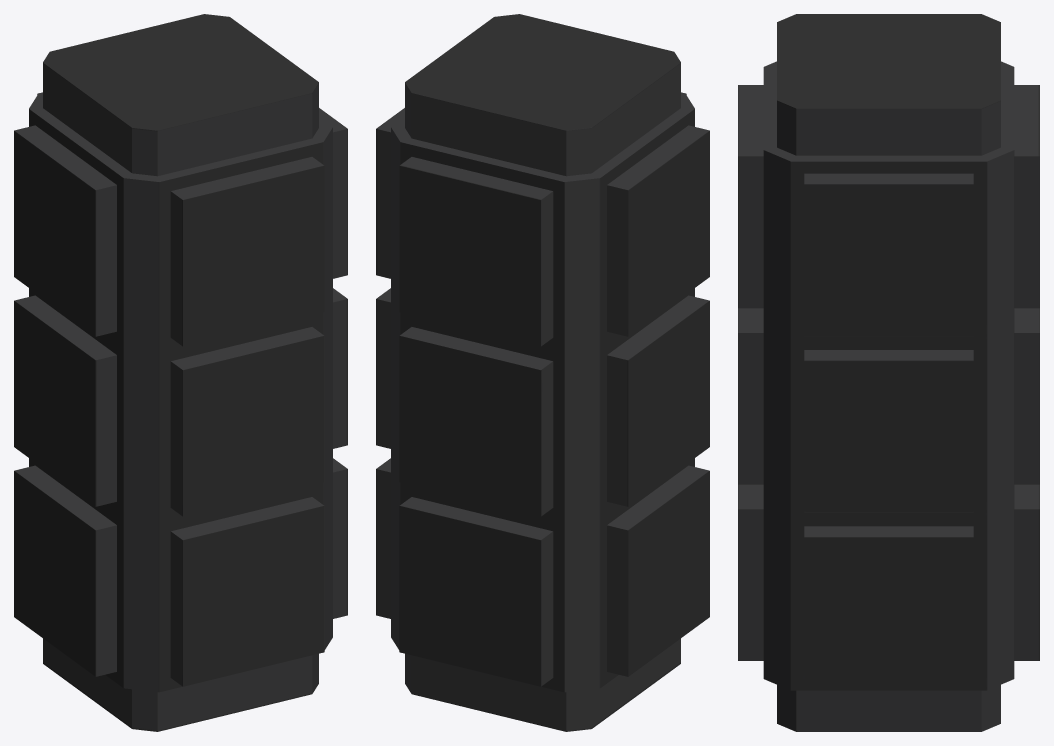
Rendered from FourSidedConnectorPillar.fbx.
3 views of the same model, side by side, from view 1: azimuth 30°, elevation 25°; view 2: azimuth 150°, elevation 25°; view 3: azimuth 270°, elevation 25° (orthographic). The views are drawn at different scales.
Visible parts, largest first — view 1: FourSidedConnectorPillar; view 2: FourSidedConnectorPillar; view 3: FourSidedConnectorPillar.
Boxes of the visible parts, x1,y1,x2,y2 form: FourSidedConnectorPillar: (14,14,347,731); FourSidedConnectorPillar: (376,14,709,731); FourSidedConnectorPillar: (738,14,1039,731).
Size of the model in its own units: 125 by 285 by 125.
